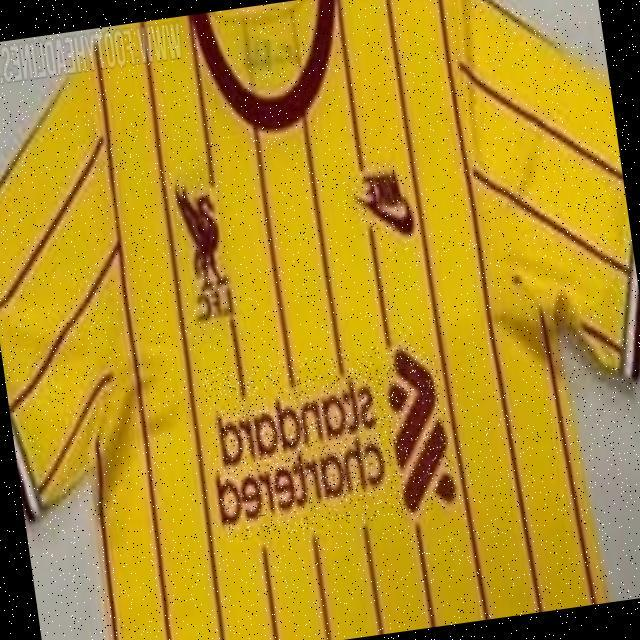Nike: (352, 170, 416, 243)
Standard Chartered: (204, 339, 458, 542)
